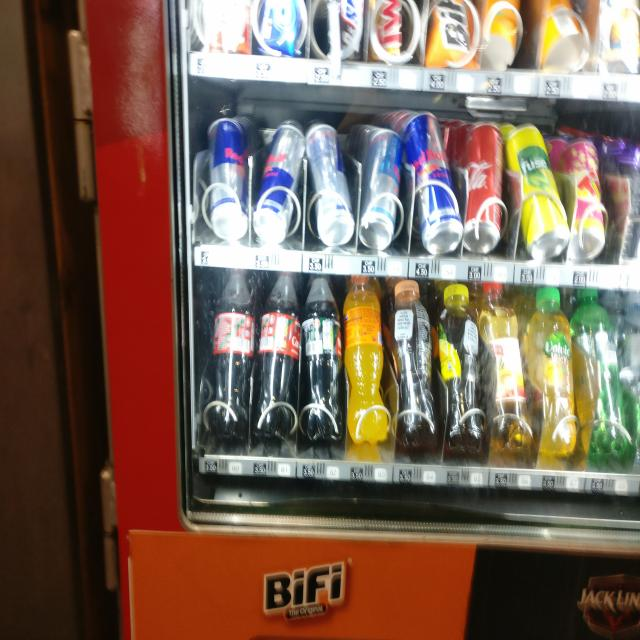coke___50__54491472: (299, 269, 348, 447), (207, 264, 256, 433), (256, 270, 301, 440)
coke__dose_33__54491472: (463, 122, 511, 255)
fanta___50__40822938: (347, 272, 392, 440)
fuse_lemon__50__5449000235947: (441, 282, 486, 449)
fuse_lemon_dose_33__5449000235947: (509, 119, 572, 252)
fuse_peach__50__5449000236623: (392, 278, 441, 445)
ramseier_schorle__50__7610057012456: (477, 278, 532, 445)
redbull___33__90162909: (411, 110, 464, 250), (305, 118, 356, 244), (255, 118, 302, 247), (206, 111, 248, 239), (363, 124, 403, 247)
tiki_himbeer_brause__50__00000000009342: (567, 136, 611, 263)
valser_classic__50__76404160: (570, 282, 628, 456)
volvic_pinapple__50__305764335648: (525, 284, 577, 458)
